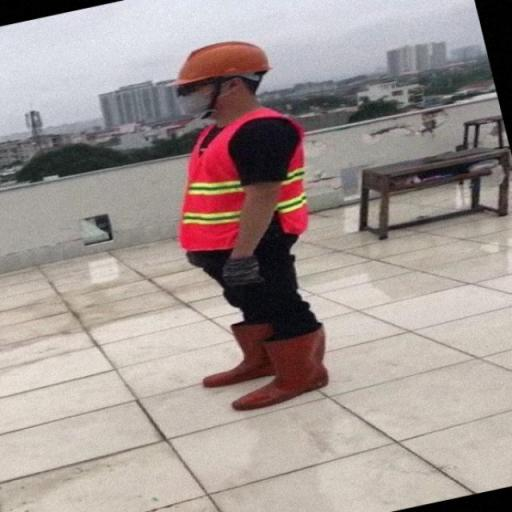Person: (149, 28, 360, 416)
boots: (232, 320, 334, 416), (200, 320, 286, 392)
gloves: (222, 255, 260, 288), (180, 243, 200, 266)
goggles: (167, 72, 239, 98)
helmet: (166, 33, 276, 89)
vest: (173, 110, 312, 248)
